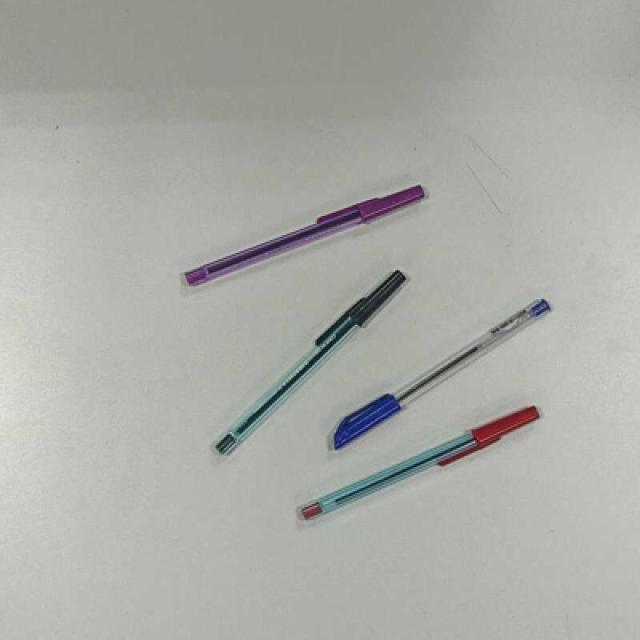caneta: (210, 265, 408, 458), (324, 297, 555, 449), (300, 403, 543, 529), (183, 181, 427, 287)
